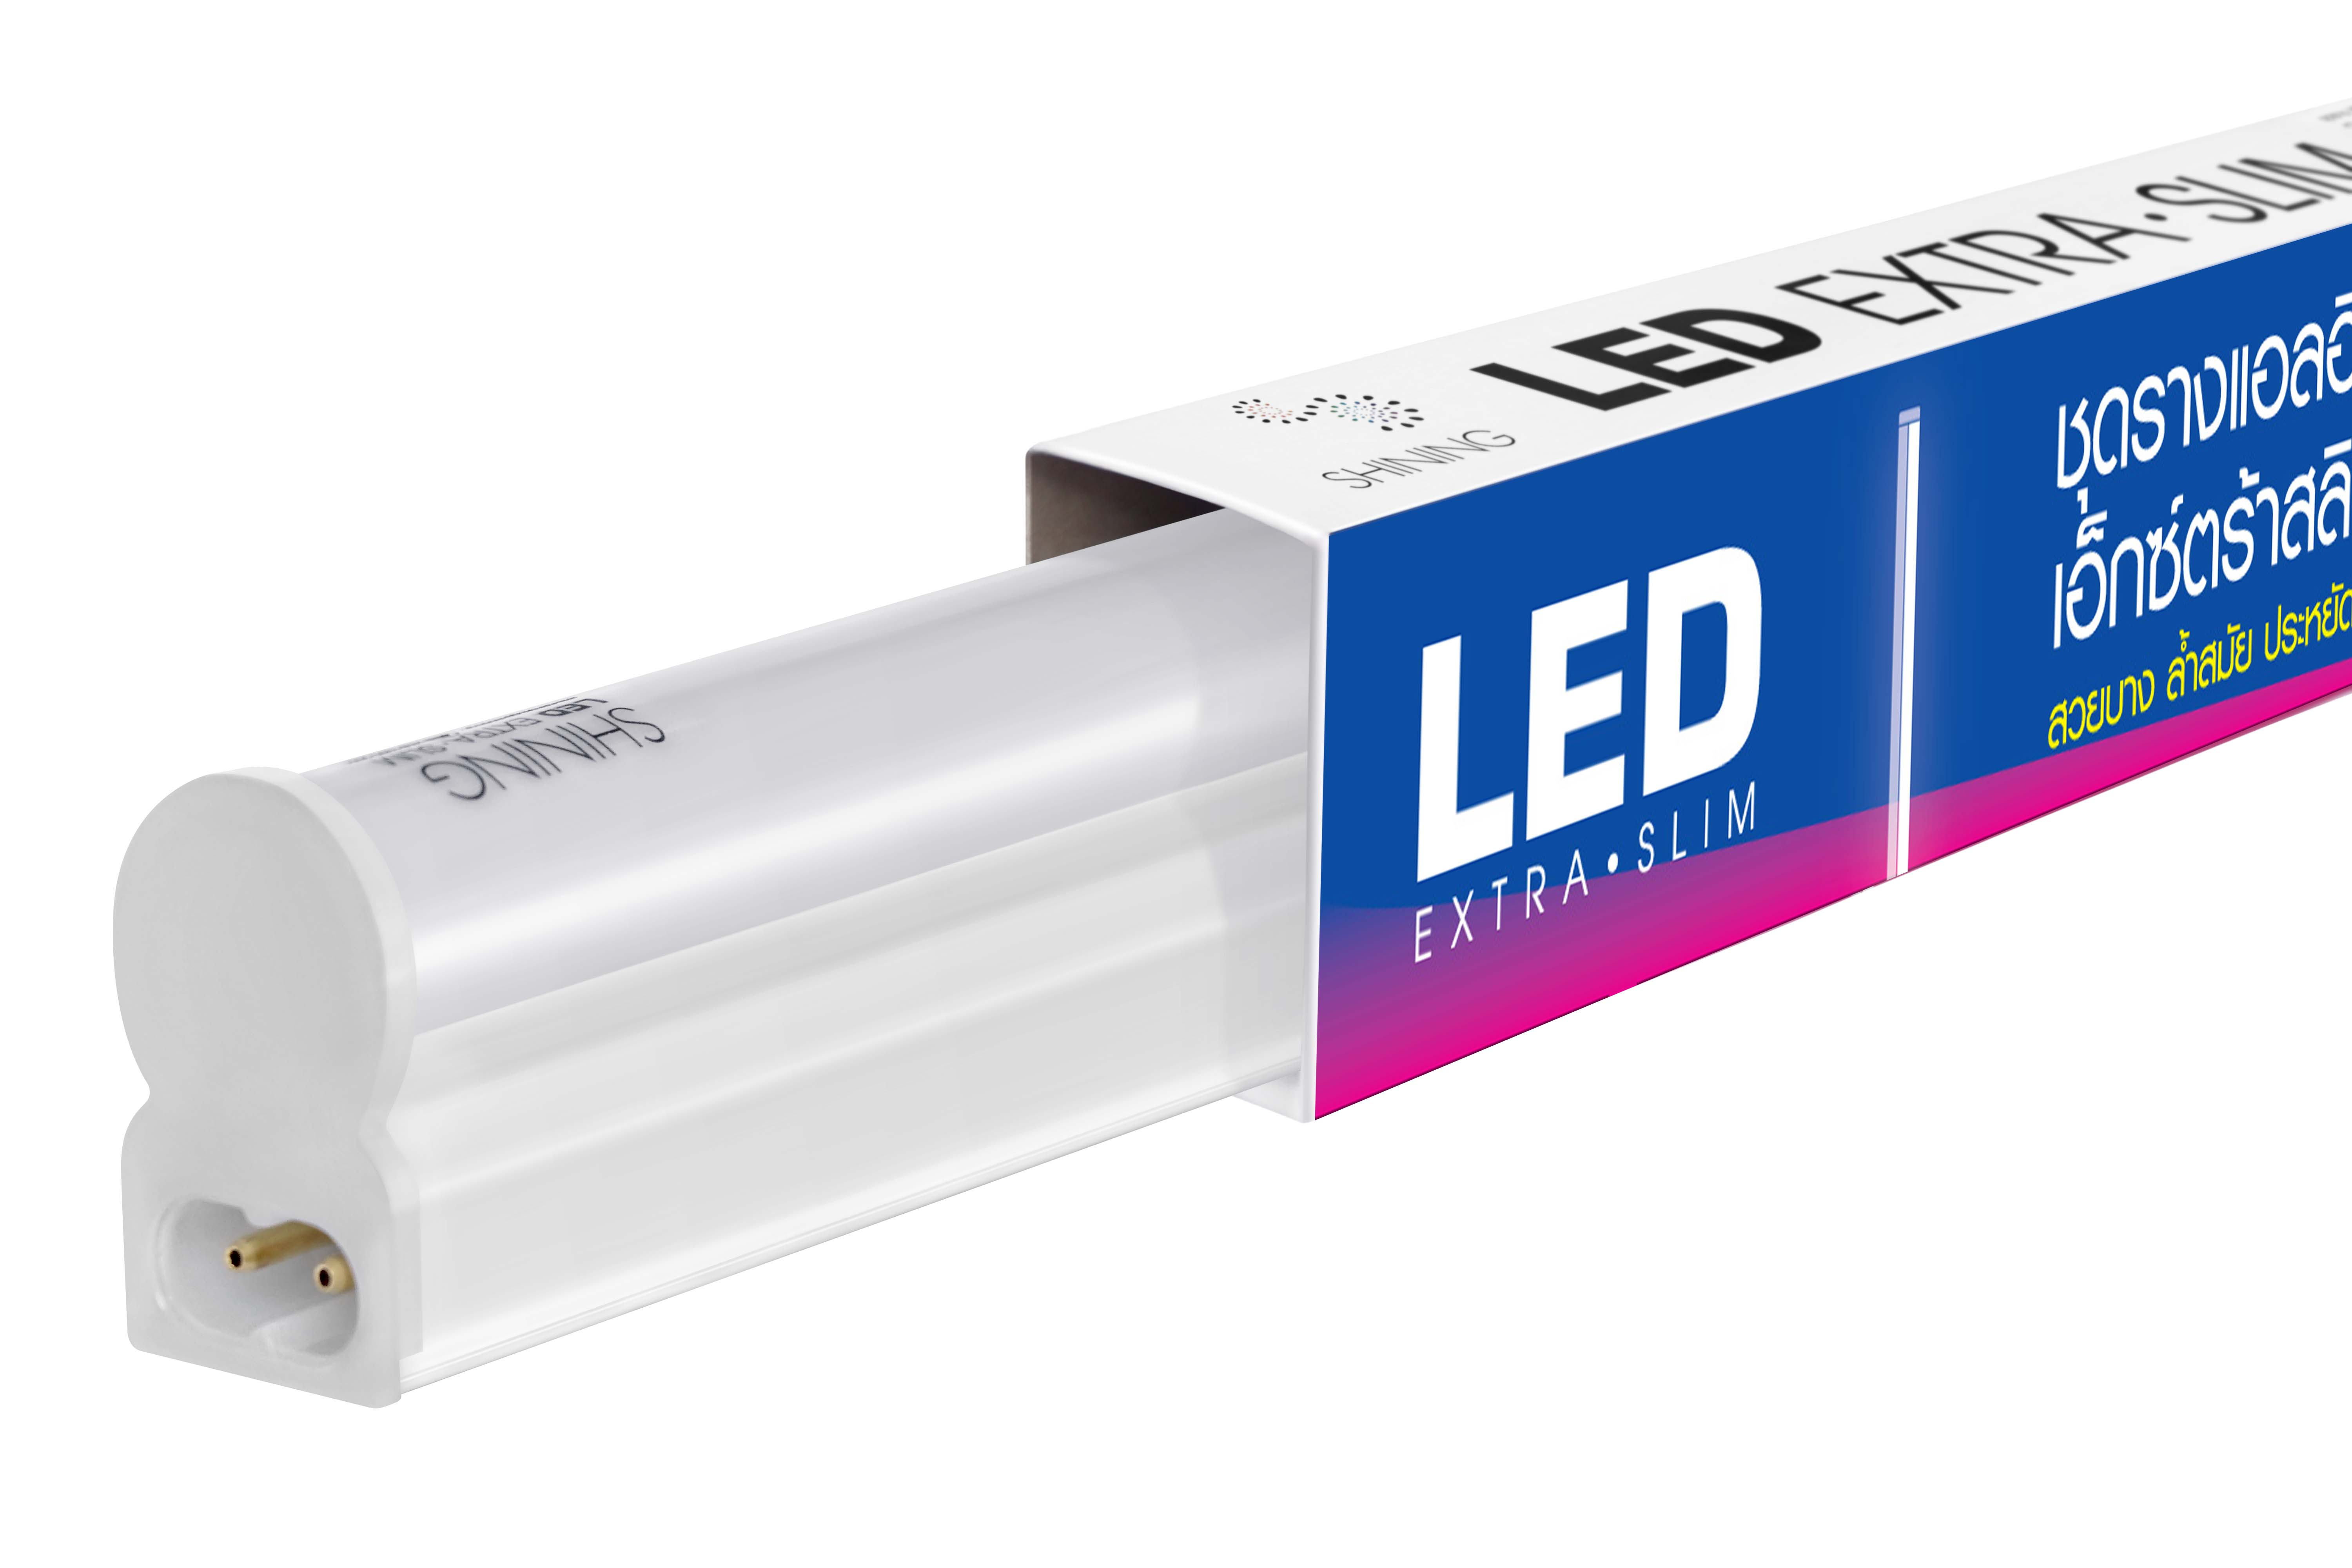Light_bulb: (135, 504, 1365, 1025)
